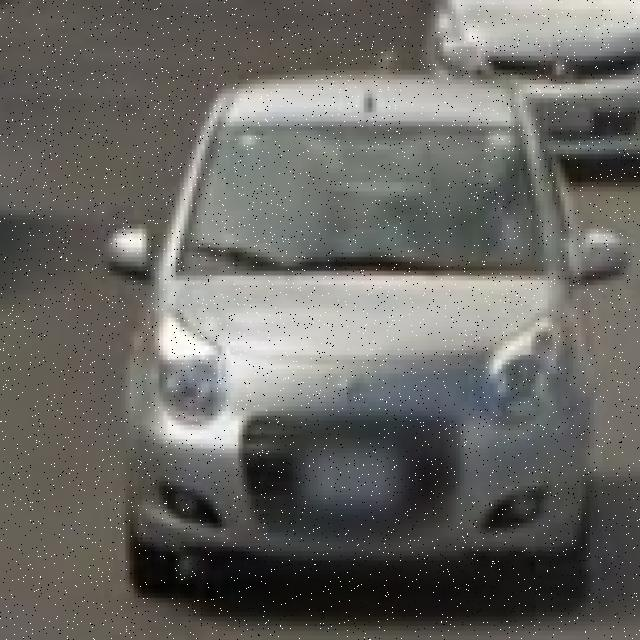cars: (111, 70, 632, 616)
